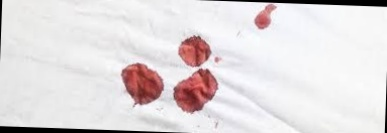blood: (172, 67, 218, 115), (124, 64, 165, 108), (178, 37, 212, 67), (251, 3, 279, 31)
